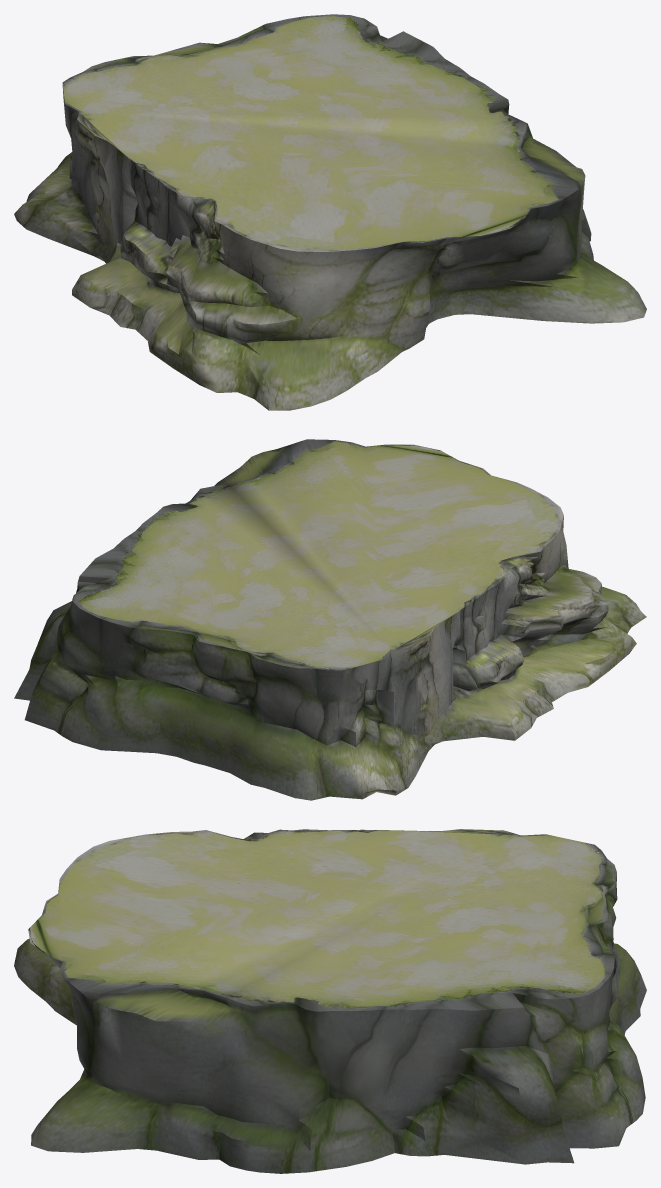
Rendered from CourtPlateau_LOD1.fbx.
3 views of the same model, one above another, from view 1: azimuth 30°, elevation 25°; view 2: azimuth 150°, elevation 25°; view 3: azimuth 270°, elevation 25° (orthographic). The views are drawn at different scales.
Parts seen in each view (by area): view 1: CourtPlateau_LOD1; view 2: CourtPlateau_LOD1; view 3: CourtPlateau_LOD1.
Boxes of the visible parts, box(x1,y1,x2,y2) form: CourtPlateau_LOD1: box(14, 14, 646, 410); CourtPlateau_LOD1: box(14, 439, 646, 800); CourtPlateau_LOD1: box(14, 829, 646, 1173).
Size of the model in its own units: 59.07 by 15.05 by 65.23.
1 material, 1 textured.
